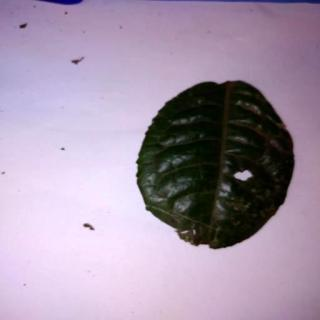Anthracnose: (138, 80, 295, 250)
